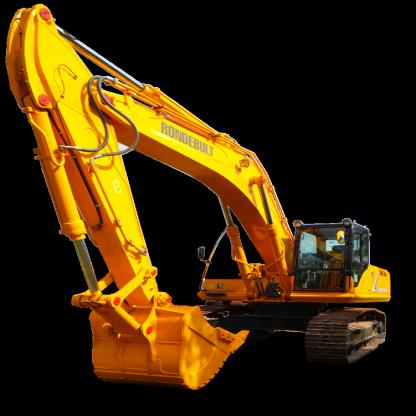excavator: (0, 2, 410, 392)
